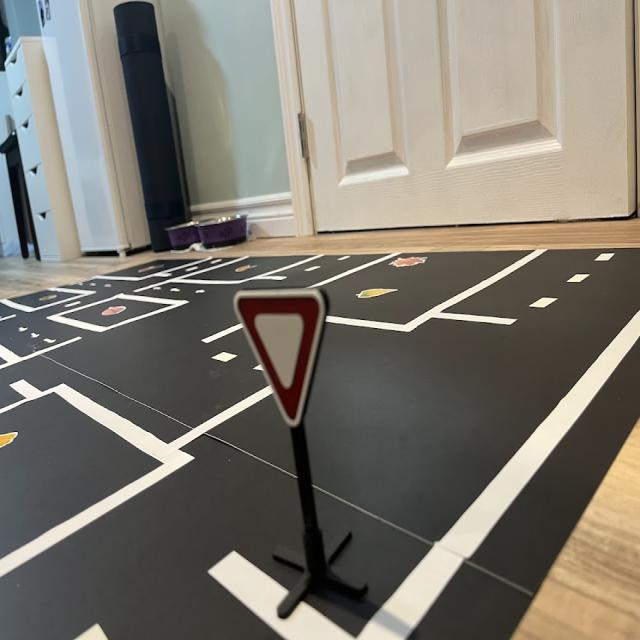sign_yield: (235, 290, 328, 430)
